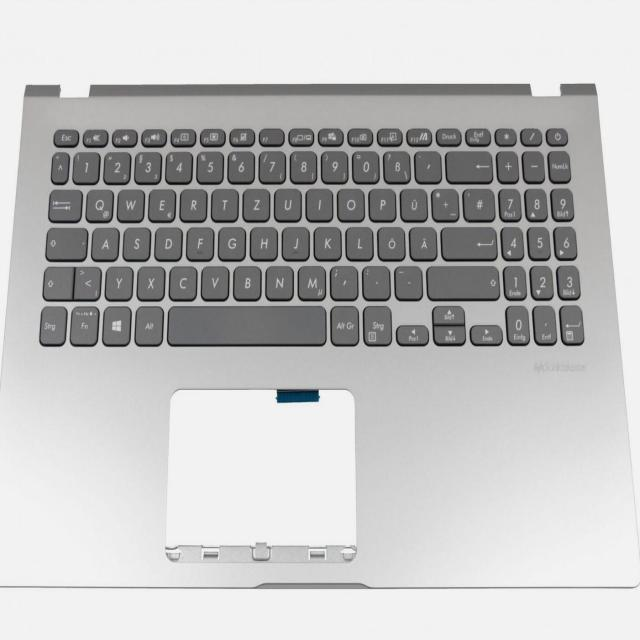0: (350, 149, 379, 182)
1: (72, 149, 99, 182)
2: (102, 149, 130, 181)
3: (133, 149, 161, 182)
4: (165, 149, 192, 181)
5: (195, 149, 223, 181)
6: (226, 149, 254, 182)
7: (258, 149, 285, 182)
8: (289, 148, 317, 182)
9: (320, 151, 349, 184)
a: (90, 225, 119, 259)
accent: (414, 149, 441, 181)
ae: (409, 224, 437, 258)
alt-left: (134, 304, 163, 345)
altgr-right: (329, 303, 359, 345)
b: (232, 264, 261, 299)
c: (168, 264, 197, 298)
caret: (50, 149, 69, 182)
comma: (329, 263, 357, 299)
d: (153, 224, 182, 260)
del: (444, 148, 492, 182)
e: (147, 187, 175, 220)
enter: (440, 223, 496, 259)
f: (186, 225, 214, 259)
g: (217, 225, 245, 259)
h: (249, 225, 277, 259)
hash: (462, 185, 495, 220)
i: (305, 186, 333, 219)
j: (281, 224, 309, 258)
k: (313, 224, 341, 258)
keyboard: (34, 112, 594, 356)
l: (345, 224, 373, 258)
less: (74, 263, 102, 299)
m: (296, 263, 326, 299)
minus: (393, 264, 422, 298)
n: (264, 263, 293, 299)
o: (336, 186, 364, 220)
oe: (377, 224, 405, 258)
p: (368, 186, 395, 219)
plus: (430, 186, 458, 220)
point: (361, 264, 390, 298)
q: (85, 186, 114, 220)
r: (179, 186, 206, 220)
s: (122, 224, 150, 260)
shift-left: (41, 264, 72, 300)
shift-lock: (44, 224, 87, 259)
shift-right: (425, 262, 499, 298)
space: (165, 303, 325, 345)
ss: (382, 149, 410, 181)
strg-left: (38, 303, 66, 344)
strg-right: (362, 303, 392, 345)
t: (211, 186, 238, 220)
tab: (47, 186, 81, 220)
u: (273, 186, 301, 220)
ue: (399, 186, 427, 220)
v: (200, 264, 229, 299)
w: (116, 186, 144, 220)
x: (136, 264, 165, 299)
y: (104, 265, 132, 299)
z: (242, 186, 270, 220)
